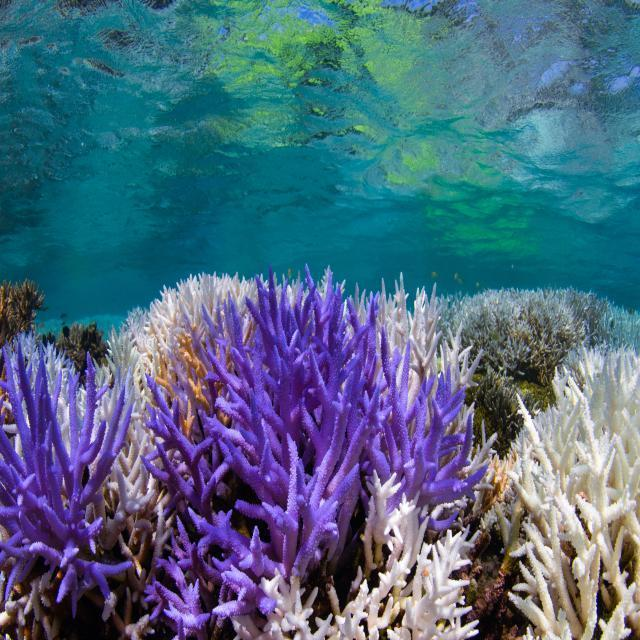Bleached Coral: (485, 354, 640, 640), (330, 539, 486, 633), (368, 275, 475, 399), (120, 272, 241, 345)
Dead Coral: (64, 314, 105, 368)
